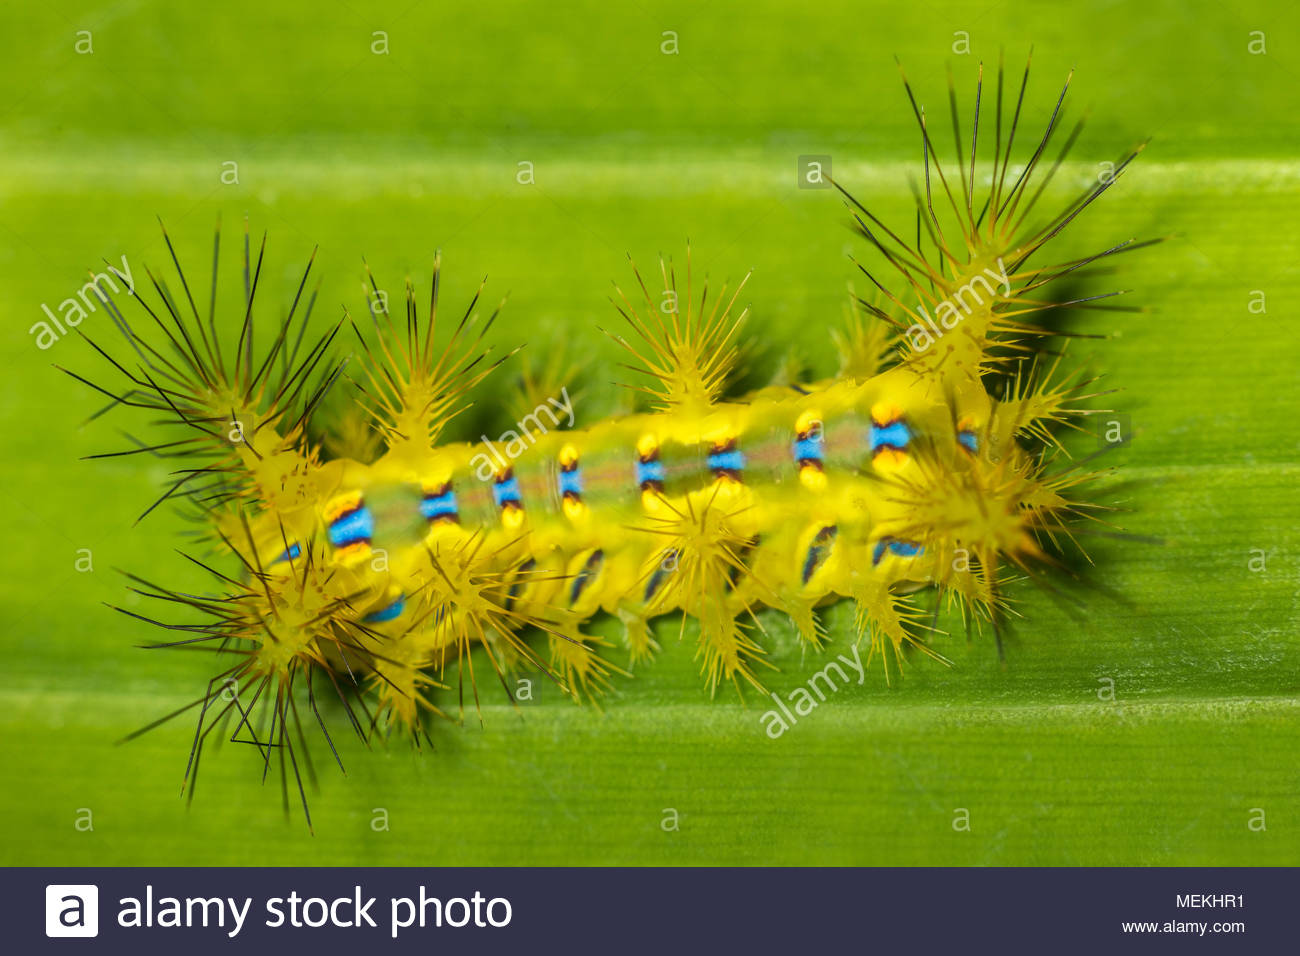Pest! (nettle_caterpillar): (103, 249, 1132, 667)
